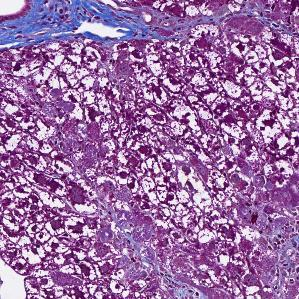fibrosis: (25, 0, 155, 49)
